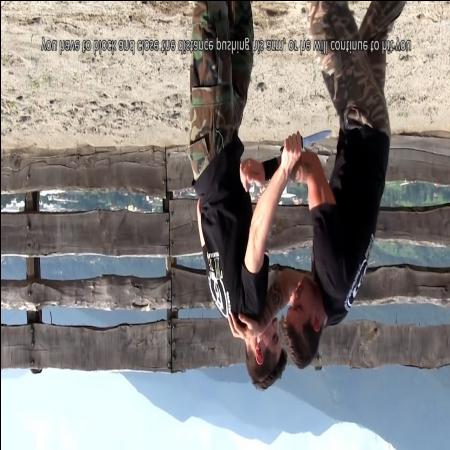long weapon: (276, 125, 332, 160)
